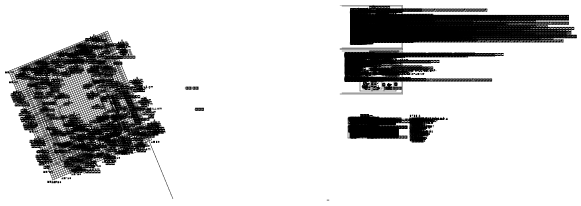corridor: (142, 115, 172, 118), (108, 51, 124, 54)
door: (160, 61, 166, 66), (87, 36, 93, 41), (118, 162, 124, 167), (143, 52, 149, 57), (176, 61, 182, 65), (152, 58, 158, 62), (43, 105, 49, 109), (173, 93, 179, 97), (143, 88, 149, 92), (139, 57, 145, 61), (77, 49, 82, 53), (172, 67, 177, 71), (149, 113, 154, 117), (104, 48, 109, 51), (160, 59, 165, 62), (143, 144, 148, 147), (164, 67, 169, 70), (144, 55, 149, 58), (70, 61, 74, 64), (133, 139, 137, 142), (177, 109, 181, 112), (69, 103, 73, 106), (106, 48, 110, 51), (100, 45, 104, 47), (107, 145, 111, 147), (538, 137, 541, 139), (538, 135, 541, 137), (70, 65, 73, 67), (147, 83, 149, 85), (151, 111, 153, 113), (150, 55, 152, 56), (554, 150, 555, 151), (525, 146, 526, 147), (562, 151, 562, 151), (562, 152, 562, 152), (554, 152, 555, 152), (554, 151, 555, 151), (562, 150, 562, 151), (554, 150, 555, 150)
room: (142, 52, 202, 66), (54, 100, 72, 141), (63, 138, 115, 151), (120, 149, 149, 170), (120, 149, 148, 169), (63, 141, 115, 151), (128, 70, 149, 94), (83, 40, 125, 52), (64, 139, 111, 149), (133, 70, 149, 94), (128, 95, 143, 120), (131, 73, 148, 93), (128, 121, 142, 143), (129, 76, 147, 93), (85, 65, 115, 75), (176, 71, 197, 85), (86, 66, 112, 76), (34, 113, 47, 128), (124, 144, 144, 153), (48, 129, 61, 139), (84, 143, 109, 148), (141, 117, 164, 122), (160, 70, 176, 75), (118, 157, 126, 166), (175, 92, 185, 99), (139, 60, 149, 67), (16, 135, 26, 142), (121, 121, 129, 129), (108, 51, 124, 54), (55, 134, 62, 139), (71, 96, 77, 100), (522, 133, 528, 136), (527, 150, 534, 152), (555, 150, 561, 152), (181, 88, 185, 91), (173, 103, 177, 106), (167, 78, 172, 80), (175, 98, 180, 100), (157, 96, 162, 98), (154, 101, 159, 103), (151, 106, 156, 108), (526, 151, 534, 152), (166, 81, 170, 83), (169, 76, 173, 78), (184, 83, 188, 85), (186, 81, 190, 83), (183, 86, 187, 88), (180, 91, 184, 93), (174, 101, 178, 103), (171, 106, 175, 108), (170, 109, 174, 111), (168, 111, 172, 113), (167, 114, 171, 116), (156, 99, 160, 101), (153, 104, 157, 106), (150, 109, 154, 111), (559, 133, 561, 136), (539, 133, 542, 135), (537, 134, 539, 137), (555, 133, 557, 135), (524, 134, 526, 136), (521, 135, 525, 136), (527, 121, 529, 123), (525, 119, 527, 121), (526, 135, 529, 136), (559, 134, 561, 135), (559, 133, 560, 135), (542, 132, 543, 134), (542, 134, 544, 135), (524, 120, 526, 121), (520, 120, 522, 121), (540, 133, 541, 134)
staircase: (258, 117, 263, 120), (268, 117, 273, 120), (525, 149, 529, 152)
wall: (55, 38, 155, 162), (20, 28, 112, 150), (93, 49, 184, 171), (122, 58, 211, 178), (11, 93, 170, 160), (0, 22, 82, 141), (26, 72, 182, 133), (38, 51, 194, 112), (50, 30, 206, 91), (50, 36, 117, 151), (0, 128, 150, 178), (61, 22, 211, 70), (6, 120, 155, 168), (50, 63, 71, 99), (55, 101, 71, 128), (129, 96, 143, 120), (144, 94, 158, 115), (28, 141, 59, 150), (151, 89, 163, 110), (128, 121, 140, 141), (152, 134, 164, 153), (87, 158, 115, 166), (17, 85, 45, 92), (36, 102, 46, 119), (18, 93, 42, 100), (34, 56, 56, 63), (32, 58, 54, 65), (18, 83, 40, 90), (4, 108, 26, 115), (3, 110, 25, 117), (169, 99, 178, 115), (39, 46, 62, 52), (6, 104, 29, 110), (51, 34, 74, 40), (139, 154, 148, 169), (65, 141, 87, 147), (44, 38, 66, 44), (42, 42, 64, 48), (41, 44, 63, 50), (31, 62, 53, 68), (22, 77, 44, 83), (21, 79, 43, 85), (23, 75, 45, 81), (9, 100, 31, 106), (5, 106, 27, 112), (15, 90, 37, 96), (187, 63, 207, 69), (138, 146, 157, 152), (42, 50, 61, 56), (103, 29, 111, 43), (142, 59, 163, 64), (60, 111, 67, 124), (156, 89, 163, 102), (142, 115, 172, 118), (182, 50, 200, 55), (180, 54, 197, 59), (92, 56, 109, 61), (43, 85, 60, 90), (120, 139, 137, 144), (147, 96, 154, 108), (149, 42, 156, 54), (151, 162, 167, 167), (158, 149, 174, 154), (173, 123, 189, 128), (175, 50, 182, 61), (81, 134, 88, 145), (182, 70, 197, 75), (160, 116, 175, 121), (141, 149, 156, 154), (27, 112, 42, 117), (181, 114, 195, 119), (93, 42, 110, 46), (154, 48, 160, 59), (174, 54, 180, 65), (92, 45, 98, 56), (188, 102, 201, 107), (152, 160, 168, 164), (156, 154, 172, 158), (157, 152, 173, 156), (175, 121, 191, 125), (116, 156, 122, 166), (182, 82, 188, 92), (144, 158, 150, 168), (49, 97, 55, 107), (154, 158, 169, 162), (145, 45, 151, 55), (160, 48, 175, 52), (80, 136, 86, 146), (105, 35, 111, 45), (111, 29, 126, 33), (85, 29, 91, 39), (91, 29, 106, 33), (53, 68, 68, 72), (45, 81, 60, 85), (37, 96, 52, 100), (131, 77, 145, 81), (179, 118, 193, 122), (9, 131, 23, 135), (11, 129, 25, 133), (64, 144, 78, 148), (112, 168, 126, 172), (192, 95, 206, 99), (189, 100, 203, 104), (190, 98, 204, 102), (195, 90, 209, 94), (202, 77, 216, 81), (204, 73, 218, 77), (205, 71, 219, 75), (207, 69, 221, 73), (201, 79, 215, 83), (160, 50, 174, 54), (203, 75, 217, 79), (136, 135, 150, 139), (90, 134, 104, 138), (96, 55, 110, 59), (56, 63, 70, 67), (93, 33, 99, 42), (31, 137, 44, 141), (33, 135, 46, 139), (63, 146, 76, 150), (88, 151, 101, 155), (183, 57, 196, 61), (143, 38, 156, 42), (113, 72, 126, 76), (91, 31, 104, 35), (62, 52, 75, 56), (82, 57, 95, 61), (186, 72, 203, 75), (139, 147, 149, 152), (103, 67, 113, 72), (163, 65, 168, 75), (96, 46, 101, 56), (165, 109, 170, 119), (162, 52, 167, 62), (66, 49, 72, 57), (87, 153, 99, 157), (103, 155, 115, 159), (163, 88, 175, 92), (128, 86, 140, 90), (94, 73, 106, 77), (115, 62, 127, 66), (105, 153, 117, 157), (63, 50, 75, 54), (40, 132, 52, 136), (80, 76, 85, 85), (136, 145, 145, 150), (143, 47, 148, 56), (153, 63, 158, 72), (99, 138, 104, 147), (101, 47, 106, 56), (91, 45, 96, 54), (88, 31, 93, 40), (110, 118, 121, 122), (122, 97, 133, 101), (81, 59, 92, 63), (29, 110, 40, 114), (156, 159, 167, 163), (180, 119, 191, 123), (130, 83, 141, 87), (95, 67, 109, 70), (155, 50, 160, 58), (161, 73, 169, 78), (115, 39, 120, 47), (115, 109, 127, 112), (114, 111, 126, 114), (102, 158, 114, 161), (178, 95, 190, 98), (165, 87, 177, 90), (116, 107, 128, 110), (151, 86, 163, 89), (89, 137, 101, 140), (87, 139, 99, 142), (115, 137, 127, 140), (116, 135, 128, 138), (40, 90, 52, 93), (39, 134, 51, 137), (183, 113, 195, 116), (195, 92, 207, 95), (190, 60, 194, 69), (140, 61, 145, 68), (143, 56, 154, 59), (109, 120, 120, 123), (147, 146, 158, 149), (129, 85, 140, 88), (118, 70, 129, 73), (129, 65, 140, 68), (142, 69, 153, 72), (119, 68, 130, 71), (116, 71, 127, 74), (45, 141, 56, 144), (45, 139, 56, 142), (111, 35, 122, 38), (123, 57, 134, 60), (54, 65, 65, 68), (75, 68, 86, 71), (200, 85, 211, 88), (94, 65, 98, 73), (97, 140, 101, 148), (105, 70, 109, 78), (160, 52, 164, 60), (78, 54, 86, 58), (180, 63, 186, 68), (78, 48, 83, 54), (86, 144, 96, 147), (169, 115, 179, 118), (182, 92, 192, 95), (141, 42, 151, 45), (151, 78, 161, 81), (152, 76, 162, 79), (131, 63, 141, 66), (153, 72, 163, 75), (143, 67, 153, 70), (94, 77, 104, 80), (95, 75, 105, 78), (150, 87, 160, 90), (78, 131, 88, 134), (57, 124, 67, 127), (111, 37, 121, 40), (101, 54, 111, 57), (64, 48, 74, 51), (39, 92, 49, 95), (25, 117, 35, 120), (87, 88, 97, 91), (124, 122, 128, 129), (140, 116, 144, 123), (95, 142, 99, 149), (107, 37, 111, 44), (127, 77, 131, 84), (115, 52, 119, 59), (159, 64, 163, 71), (145, 111, 154, 114), (14, 131, 23, 134), (142, 159, 151, 162), (164, 120, 173, 123), (139, 44, 148, 47), (151, 83, 160, 86), (141, 130, 150, 133), (77, 133, 86, 136), (64, 132, 73, 135), (59, 122, 68, 125), (129, 46, 138, 49), (44, 83, 53, 86), (114, 148, 123, 151), (72, 107, 81, 110), (39, 122, 48, 125), (174, 54, 183, 57), (57, 100, 66, 103), (53, 108, 62, 111), (79, 100, 88, 103), (89, 85, 98, 88), (90, 83, 99, 86), (35, 122, 40, 127), (536, 134, 544, 137), (100, 162, 108, 165), (111, 50, 119, 53), (20, 127, 28, 130), (42, 139, 46, 145), (140, 76, 152, 78), (110, 67, 116, 71), (86, 74, 94, 77), (69, 107, 77, 110), (31, 106, 39, 109), (56, 143, 64, 146), (111, 151, 119, 154), (47, 136, 55, 139), (121, 130, 129, 133), (136, 154, 144, 157), (154, 85, 162, 88), (36, 132, 44, 135), (101, 56, 109, 59), (156, 49, 164, 52), (82, 80, 90, 83), (121, 158, 124, 165), (174, 69, 181, 72), (180, 57, 183, 64), (88, 31, 91, 38), (122, 47, 129, 50), (15, 137, 25, 139), (89, 69, 93, 74), (110, 46, 115, 50), (137, 58, 142, 62), (19, 134, 23, 139), (144, 124, 154, 126), (114, 161, 118, 166), (149, 145, 151, 154), (101, 145, 107, 148), (76, 42, 79, 48), (98, 155, 101, 161), (70, 135, 73, 141), (56, 138, 59, 144), (56, 136, 59, 142), (124, 55, 133, 57), (128, 48, 137, 50), (32, 137, 41, 139), (53, 143, 56, 149), (115, 158, 118, 164), (161, 69, 164, 75), (105, 78, 114, 80), (93, 69, 96, 75), (51, 111, 60, 113), (127, 148, 131, 152), (115, 159, 123, 161), (181, 98, 189, 100), (62, 119, 70, 121), (135, 138, 143, 140), (123, 136, 131, 138), (117, 144, 125, 146), (129, 124, 137, 126), (119, 82, 127, 84), (153, 76, 161, 78), (115, 59, 123, 61), (70, 110, 78, 112), (79, 86, 87, 88), (168, 77, 171, 82), (138, 97, 141, 102), (118, 159, 121, 164), (123, 123, 126, 128), (22, 133, 25, 138), (41, 141, 44, 146), (73, 150, 76, 155), (75, 148, 78, 153), (96, 157, 99, 162), (165, 82, 168, 87), (128, 138, 133, 141), (29, 137, 32, 142), (100, 157, 103, 162), (157, 111, 164, 113), (117, 156, 124, 158), (85, 151, 92, 153), (139, 139, 146, 141), (134, 114, 141, 116), (145, 121, 152, 123), (146, 93, 153, 95), (154, 73, 161, 75), (176, 78, 183, 80), (96, 75, 103, 77), (167, 52, 174, 54), (152, 69, 159, 71), (132, 64, 139, 66), (179, 94, 182, 98), (198, 65, 204, 67), (189, 86, 192, 90), (118, 47, 122, 50), (28, 127, 32, 130), (146, 158, 152, 160), (195, 77, 201, 79), (128, 110, 134, 112), (89, 73, 95, 75), (109, 62, 115, 64), (105, 149, 108, 153), (118, 53, 124, 55), (117, 55, 123, 57), (138, 108, 144, 110), (97, 155, 103, 157), (99, 153, 105, 155), (134, 144, 137, 148), (132, 119, 138, 121), (174, 117, 180, 119), (159, 107, 165, 109), (177, 111, 183, 113), (189, 90, 195, 92), (194, 83, 200, 85), (163, 95, 169, 97), (155, 83, 161, 85), (162, 85, 166, 88), (88, 82, 94, 84), (43, 120, 49, 122), (49, 122, 55, 124), (96, 56, 102, 58), (180, 73, 186, 75), (142, 62, 148, 64), (83, 83, 89, 85), (179, 104, 181, 109), (127, 112, 132, 114), (149, 156, 154, 158), (70, 121, 75, 123), (66, 44, 71, 46), (38, 127, 40, 132), (37, 129, 39, 134), (153, 153, 158, 155), (99, 148, 101, 153), (139, 86, 144, 88), (85, 78, 90, 80), (74, 40, 79, 42), (139, 61, 141, 66), (94, 147, 96, 152), (543, 146, 546, 149), (85, 40, 88, 43), (136, 151, 139, 154), (555, 150, 559, 152), (14, 135, 16, 139), (55, 132, 57, 136), (163, 84, 165, 88), (141, 62, 143, 66), (153, 66, 155, 70), (153, 111, 157, 113), (85, 147, 87, 151), (109, 147, 111, 151), (133, 151, 137, 153), (42, 100, 46, 102), (91, 54, 95, 56), (47, 109, 51, 111), (152, 65, 154, 69), (75, 98, 79, 100), (122, 46, 129, 47), (121, 48, 128, 49), (523, 149, 526, 151), (121, 164, 123, 167), (50, 90, 52, 93), (81, 81, 83, 84), (121, 122, 127, 123), (158, 90, 160, 93), (26, 115, 32, 116), (144, 108, 147, 110), (150, 158, 156, 159), (55, 136, 57, 139), (145, 115, 146, 121), (176, 114, 182, 115), (183, 102, 189, 103), (168, 94, 174, 95), (90, 80, 96, 81), (69, 105, 72, 107), (99, 33, 105, 34), (120, 39, 126, 40), (191, 75, 197, 76), (86, 58, 92, 59), (53, 149, 58, 150), (128, 146, 133, 147), (154, 65, 159, 66), (120, 123, 125, 124), (45, 92, 50, 93), (126, 114, 131, 115), (114, 161, 119, 162), (176, 113, 181, 114), (183, 101, 188, 102), (190, 89, 195, 90), (197, 76, 202, 77), (140, 88, 145, 89), (146, 78, 151, 79), (130, 71, 135, 72), (133, 101, 138, 102), (136, 129, 141, 130), (68, 125, 73, 126), (67, 127, 72, 128), (123, 151, 128, 152), (149, 119, 154, 120), (134, 85, 139, 86), (83, 81, 88, 82), (48, 125, 53, 126), (93, 31, 98, 32), (61, 56, 66, 57), (189, 59, 194, 60), (559, 133, 561, 135), (539, 147, 541, 149), (523, 148, 527, 149), (84, 75, 88, 76), (144, 84, 146, 86), (89, 42, 93, 43), (200, 72, 204, 73), (201, 70, 205, 71), (129, 73, 133, 74), (140, 123, 144, 124), (77, 110, 81, 111), (127, 140, 131, 141), (143, 140, 144, 144), (77, 58, 81, 59), (121, 128, 123, 130), (119, 135, 123, 136), (145, 141, 146, 145), (137, 124, 139, 126), (130, 117, 132, 119), (159, 122, 163, 123), (142, 92, 146, 93), (187, 75, 191, 76), (148, 62, 150, 64), (108, 53, 112, 54), (94, 152, 98, 153), (53, 99, 57, 100), (49, 107, 53, 108), (140, 90, 143, 91), (148, 82, 151, 83), (72, 67, 75, 68), (125, 146, 128, 147), (130, 150, 133, 151), (141, 115, 144, 116), (159, 119, 160, 122), (174, 95, 177, 96), (175, 75, 176, 78), (67, 110, 70, 111), (529, 123, 531, 124), (108, 51, 109, 53), (559, 134, 560, 135), (540, 132, 541, 133), (541, 134, 542, 135), (560, 150, 560, 150), (559, 150, 560, 150), (519, 147, 526, 147), (133, 135, 136, 135)
window: (130, 92, 205, 145), (125, 70, 168, 100), (156, 106, 181, 123), (175, 63, 200, 80), (183, 92, 205, 108), (74, 32, 91, 44), (40, 102, 56, 113), (116, 110, 131, 120), (73, 39, 85, 48), (49, 79, 60, 88), (70, 37, 81, 45), (108, 43, 118, 50), (95, 39, 105, 46), (65, 58, 74, 65), (53, 91, 62, 97), (55, 65, 64, 71), (38, 105, 47, 111), (143, 76, 151, 82), (179, 65, 186, 71), (59, 77, 66, 83), (54, 81, 62, 86), (166, 125, 174, 130), (185, 70, 192, 75), (181, 64, 188, 69), (145, 79, 152, 84), (117, 43, 124, 48), (62, 75, 69, 80), (40, 101, 47, 106), (125, 134, 132, 139), (163, 129, 170, 134), (85, 75, 92, 80), (89, 42, 95, 47), (29, 114, 35, 119), (159, 59, 165, 64), (560, 148, 561, 149)
